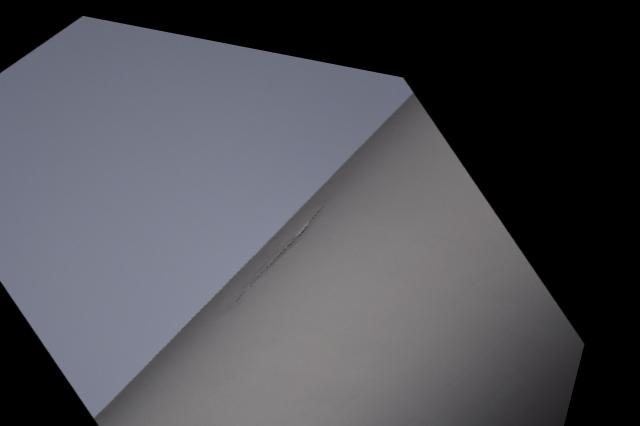damage: (220, 170, 358, 306)
